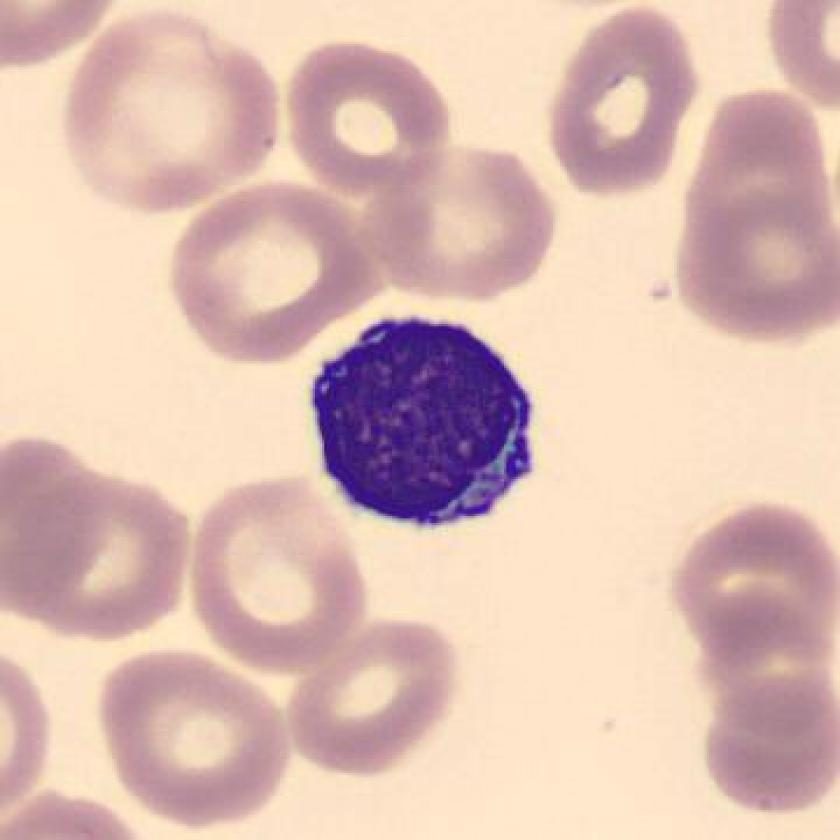lymphocyte: (300, 302, 552, 542)
